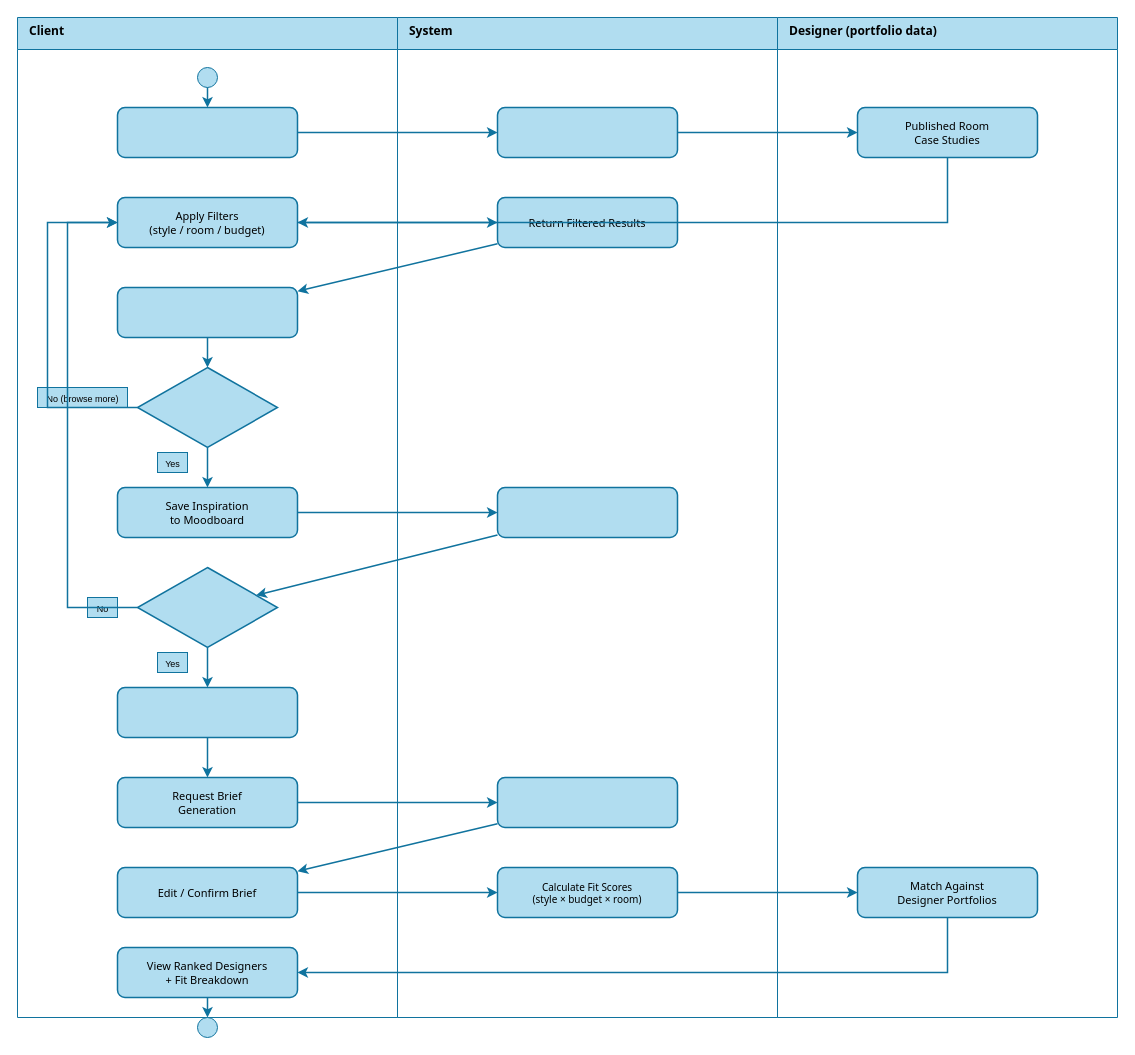
Image size: 1135x1055. Some labels were removed from this diagram. The shapes that lost their labels are listed below. From the top down, each one's centre as x and y in pixels, then its label:
At (207,132): "Open Discovery Feed".
At (587,132): "Load Portfolio Projects (style, room, budget)".
At (207,312): "View Portfolio Detail (images, tags, designer)".
At (207,407): "Save to Moodboard?".
At (587,512): "Store Moodboard Item".
At (207,607): "Enough items?".
At (207,712): "Review Moodboard".
At (587,802): "Generate Structured Brief (styles %, rooms, budget)".
